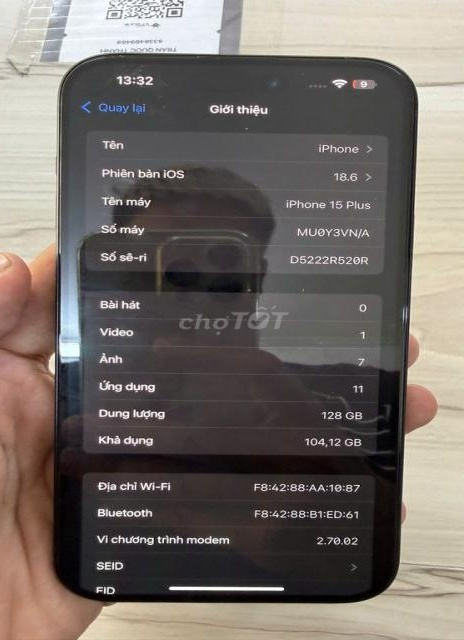scratch: (194, 53, 223, 63), (113, 49, 126, 59)
